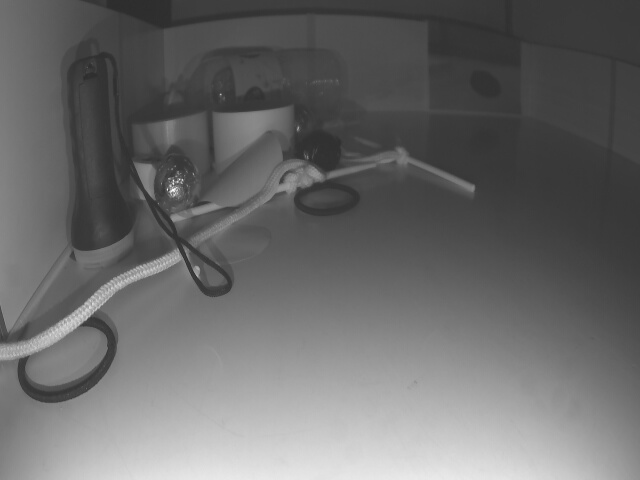Dead: (298, 133, 342, 178)
Live: (155, 154, 200, 209), (295, 108, 310, 138)
